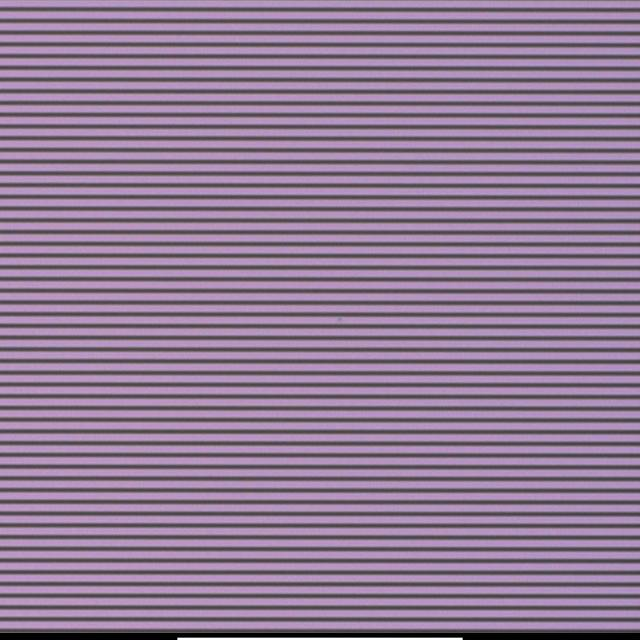nonvisual: (336, 316, 346, 325)
